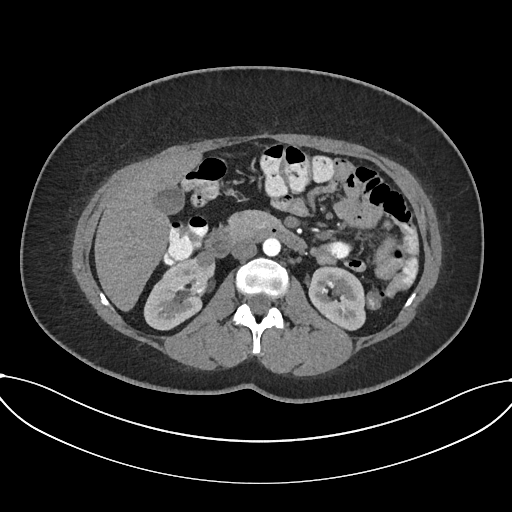Lesion: (191, 247, 218, 270)
